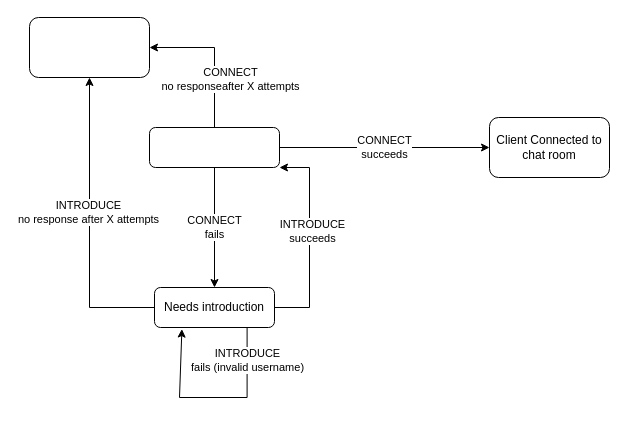
This 627x423 diagram has some shape labels left out. Each missing label, with the centre of its shape:
Client Disconnected: (214,147)
Client exited: (89,47)
